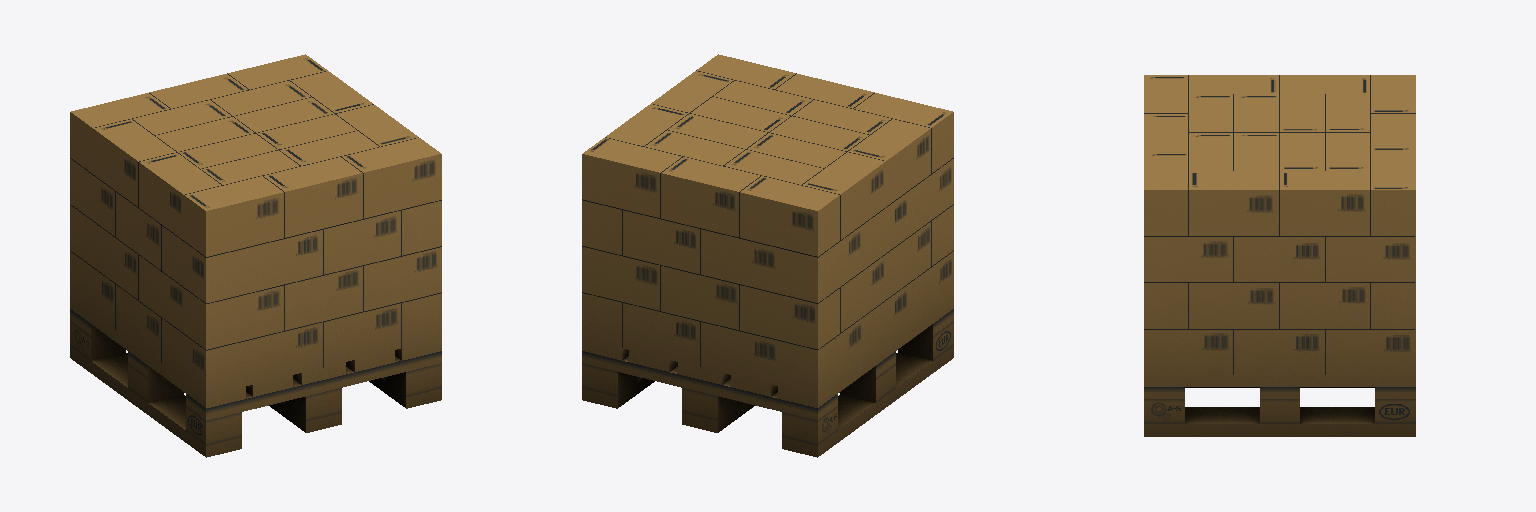
3 renders of one model, left to right at view 1: azimuth 30°, elevation 25°; view 2: azimuth 150°, elevation 25°; view 3: azimuth 270°, elevation 25°, orthographic.
Parts seen in each view (by area): view 1: box; view 2: box; view 3: box.
Boxes of the visible parts, x1=… form: box: x1=70, y1=54, x2=441, y2=457; box: x1=582, y1=54, x2=953, y2=457; box: x1=1144, y1=75, x2=1415, y2=436.
Size of the model in its own units: 1 by 1 by 1.
Materials: 2 (2 with a texture image).